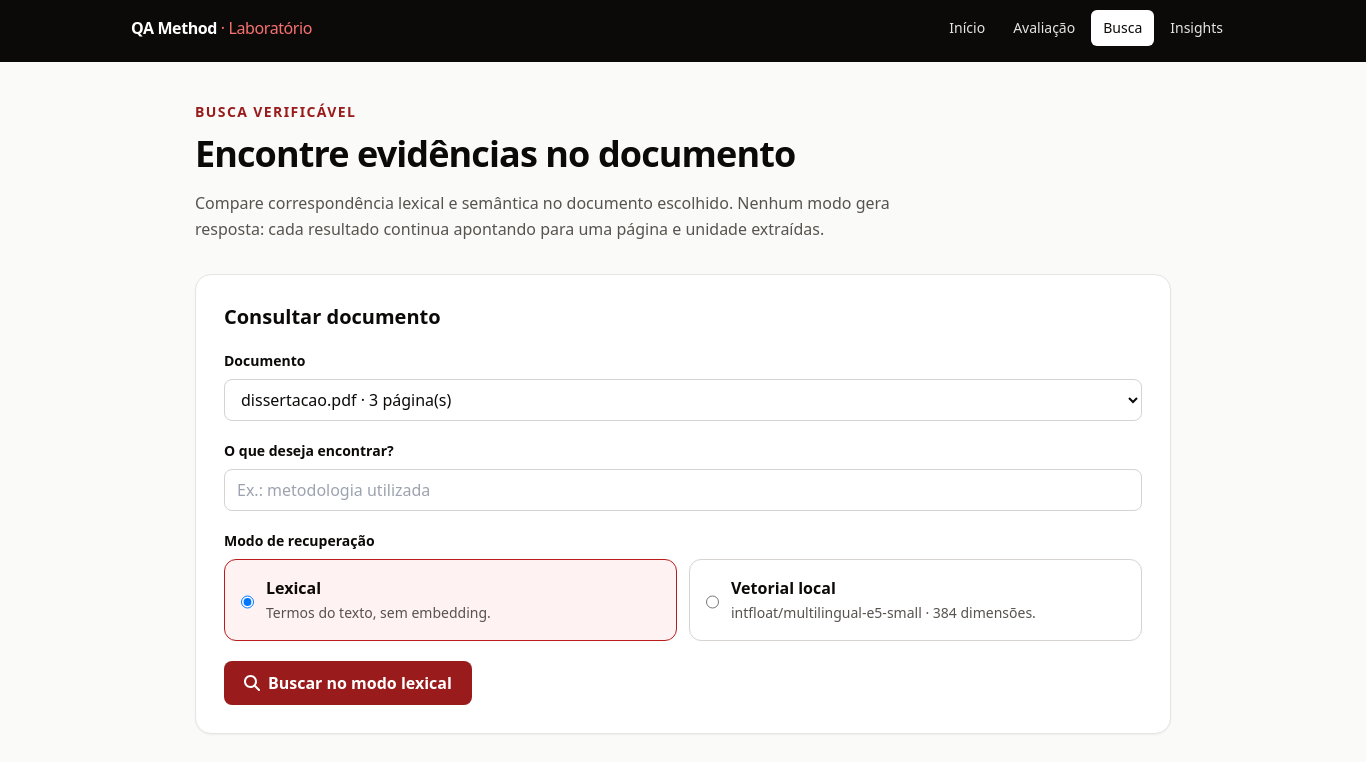
Search › apresenta estado vazio quando a consulta não encontra evidências
The width and height of the screenshot is (1366, 762).
Step 1. Type "expressão ausente" into the search field labelled "O que deseja encontrar?" → (683, 490), box [224,469,1142,511]
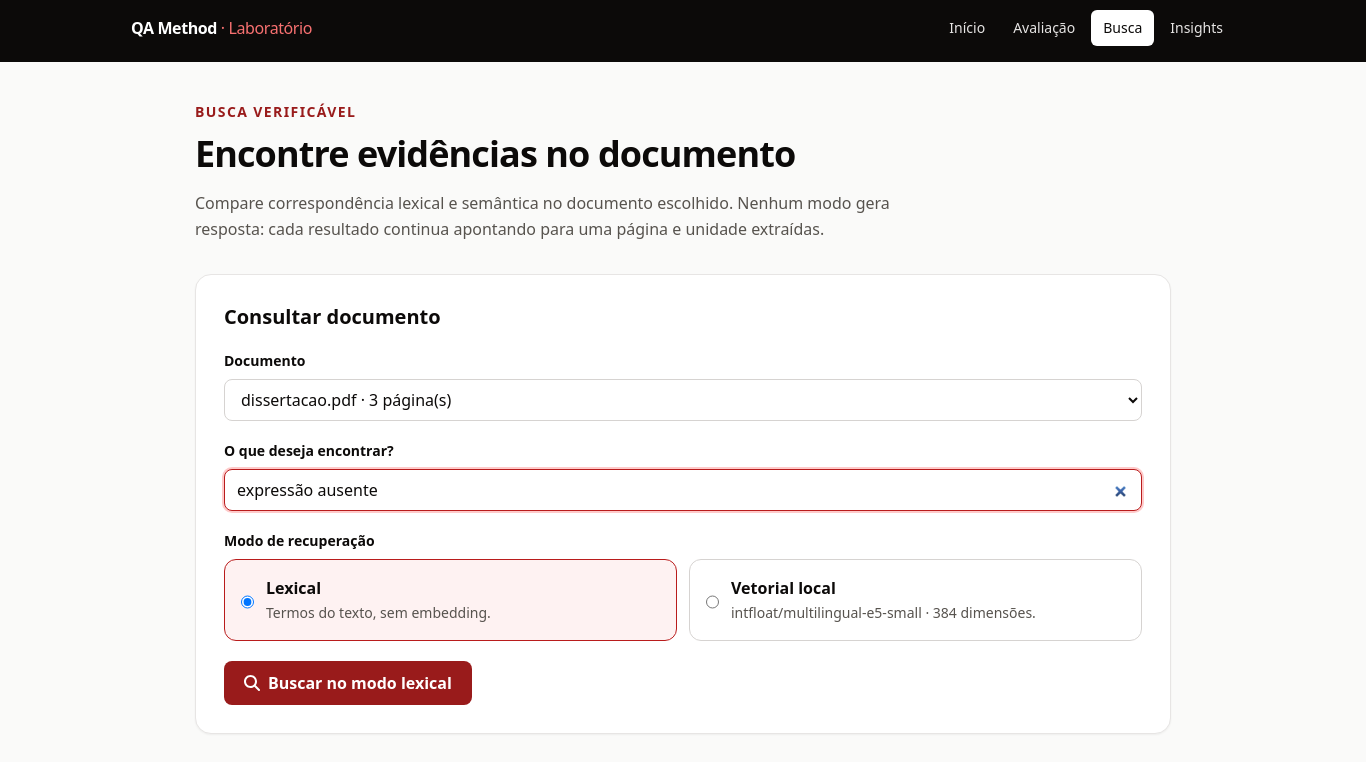
Step 2. Click the button "Buscar no modo lexical" → (348, 683), box [224,661,472,705]
(page scrolled)
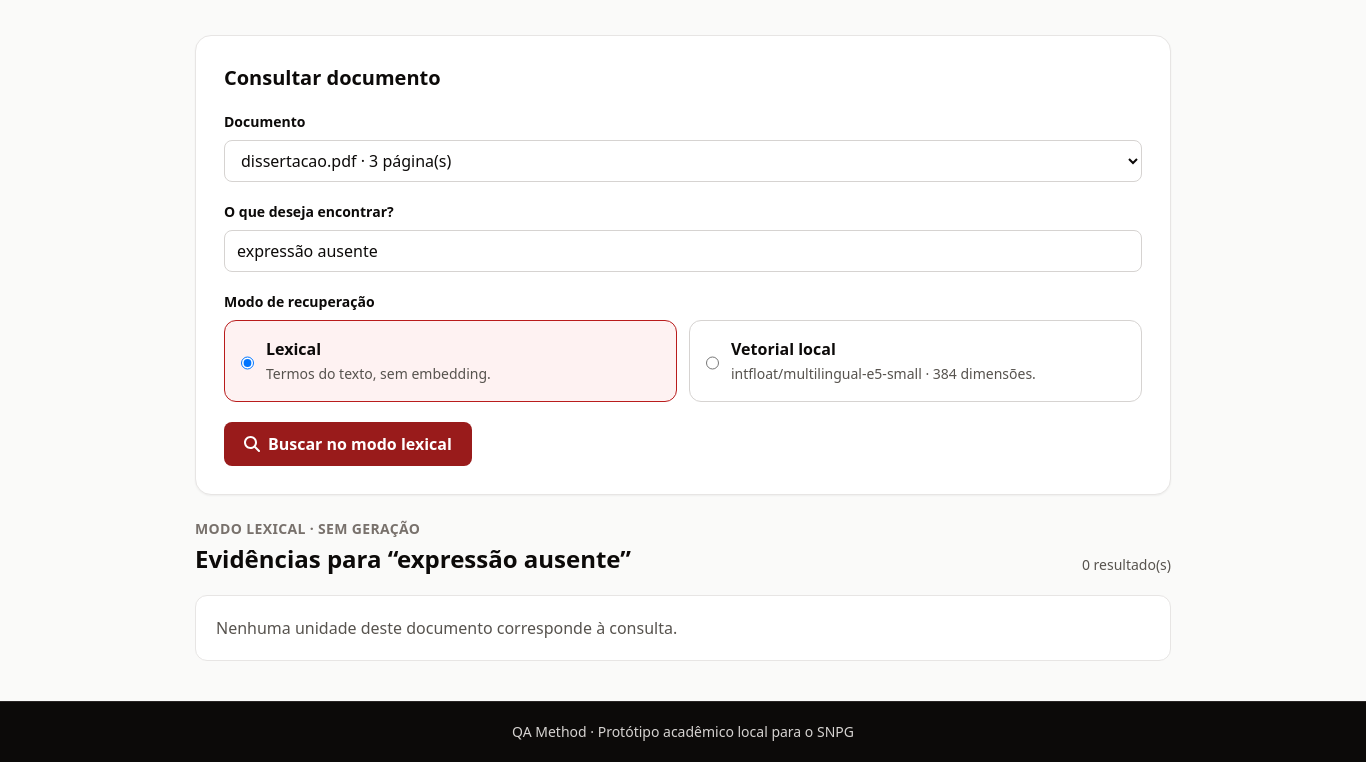
Expected: the text "Nenhuma unidade deste documento corresponde à consulta." is shown, [195,595,1171,661]
Expected: the text "0 resultado(s)" is shown, [1082,555,1171,575]
